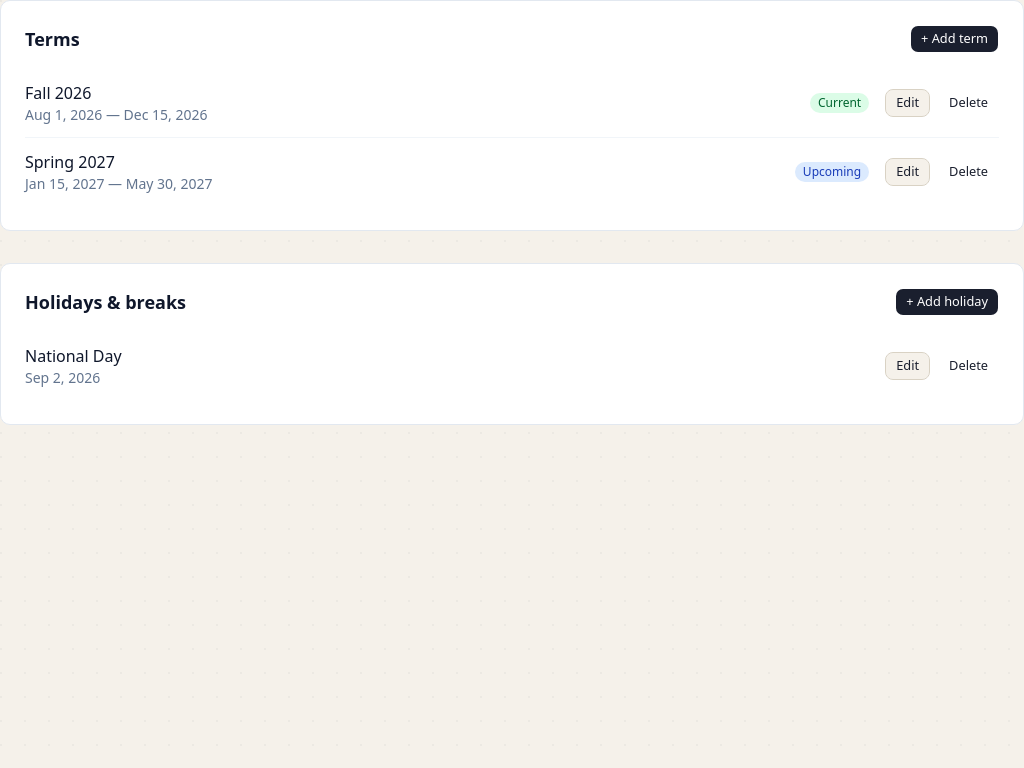
it: TermCalendarTab — AC5 CRUD via shadcn Dialog › validation error on empty name surfaces as inline field error (RHF + Zod)
Expected: the panel with test id "settings-tabpanel-terms" is shown, [0,0,1023,425]
Click the button "+ Add term". click: (954, 39)
box: [910,25,999,53]
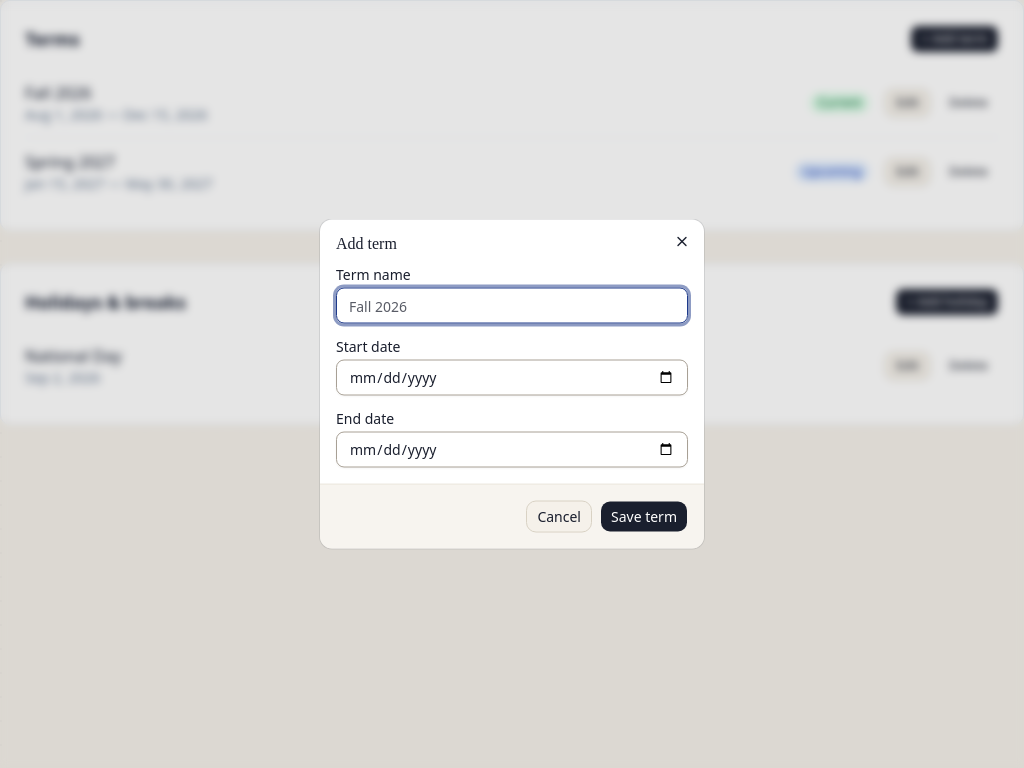
Click the button "Save term". click: (644, 516)
box: [600,500,688,532]
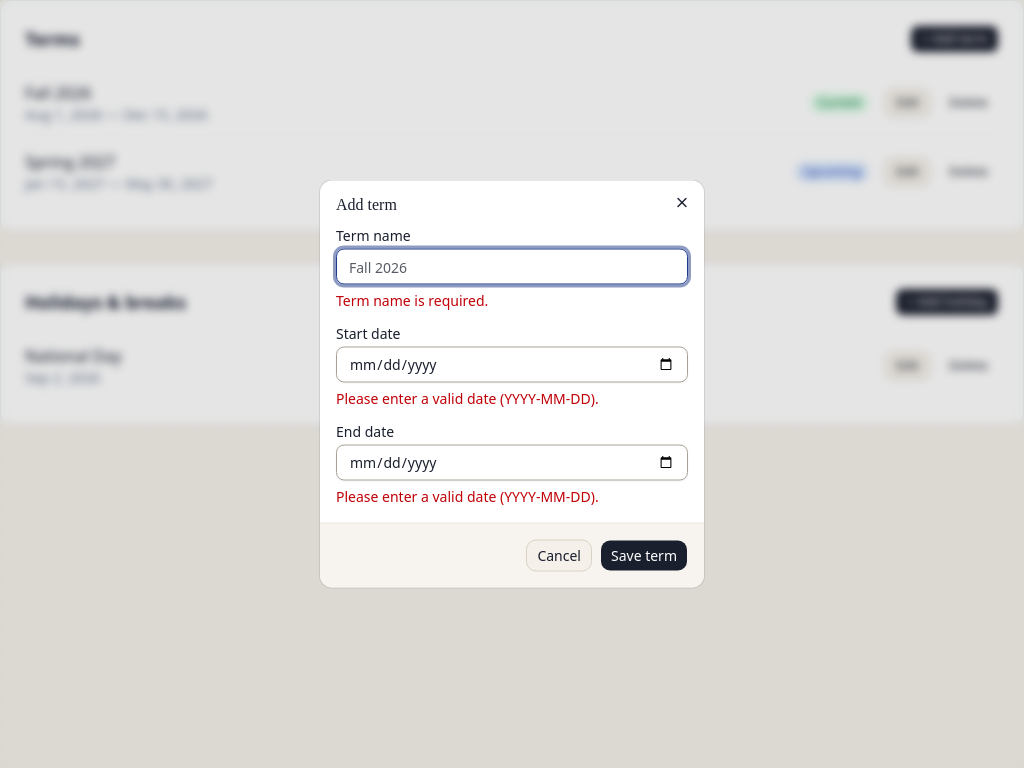
Now the text "Term name is required." is shown, box [336,290,488,310]
